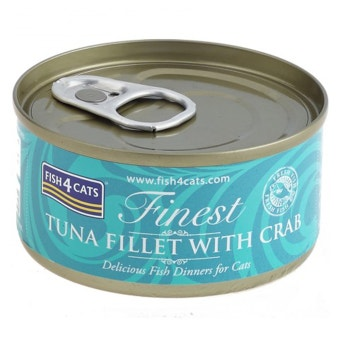paper: (12, 37, 326, 296)
